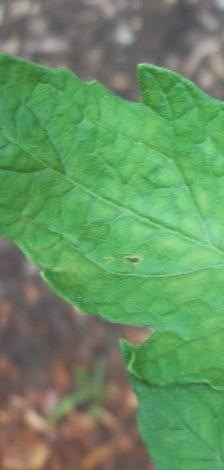Tomato mold leaf: (0, 17, 224, 470)
